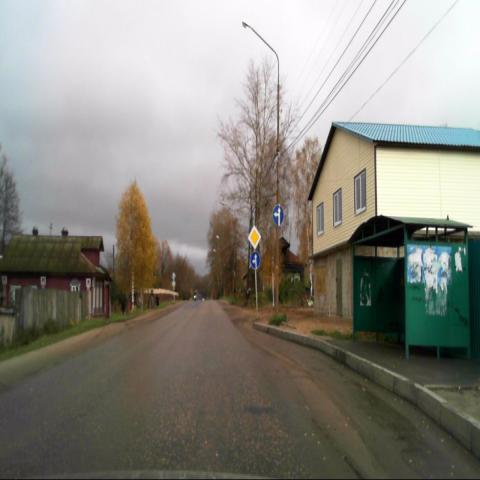4_1_5: (272, 206, 284, 228)
